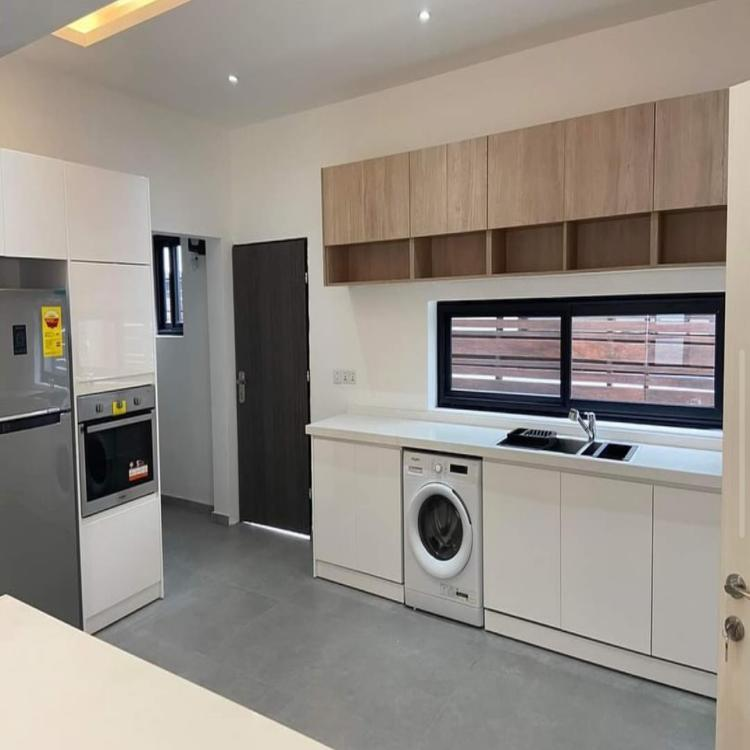ClosedDoor: (228, 238, 321, 540)
OpenDoor: (146, 227, 227, 538)
